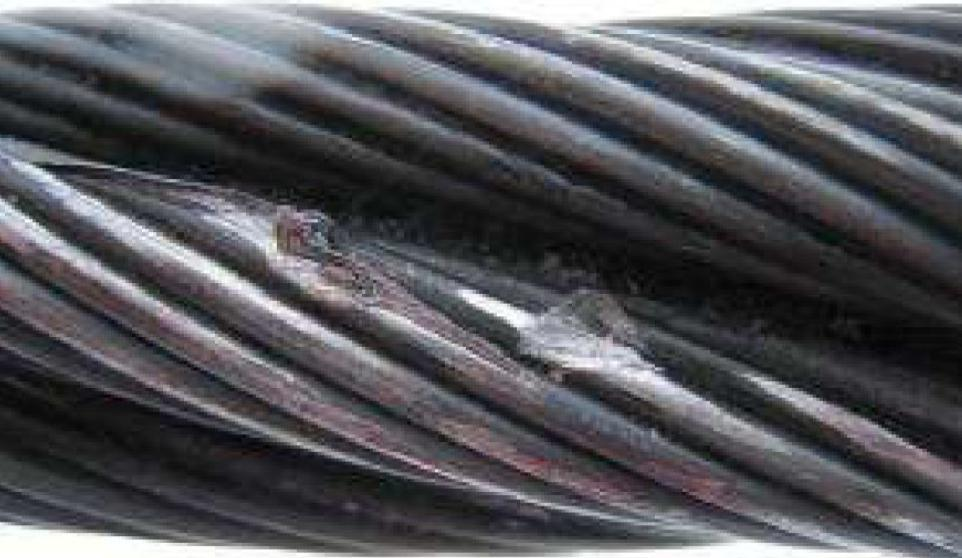break: (512, 274, 653, 395), (265, 193, 396, 312)
